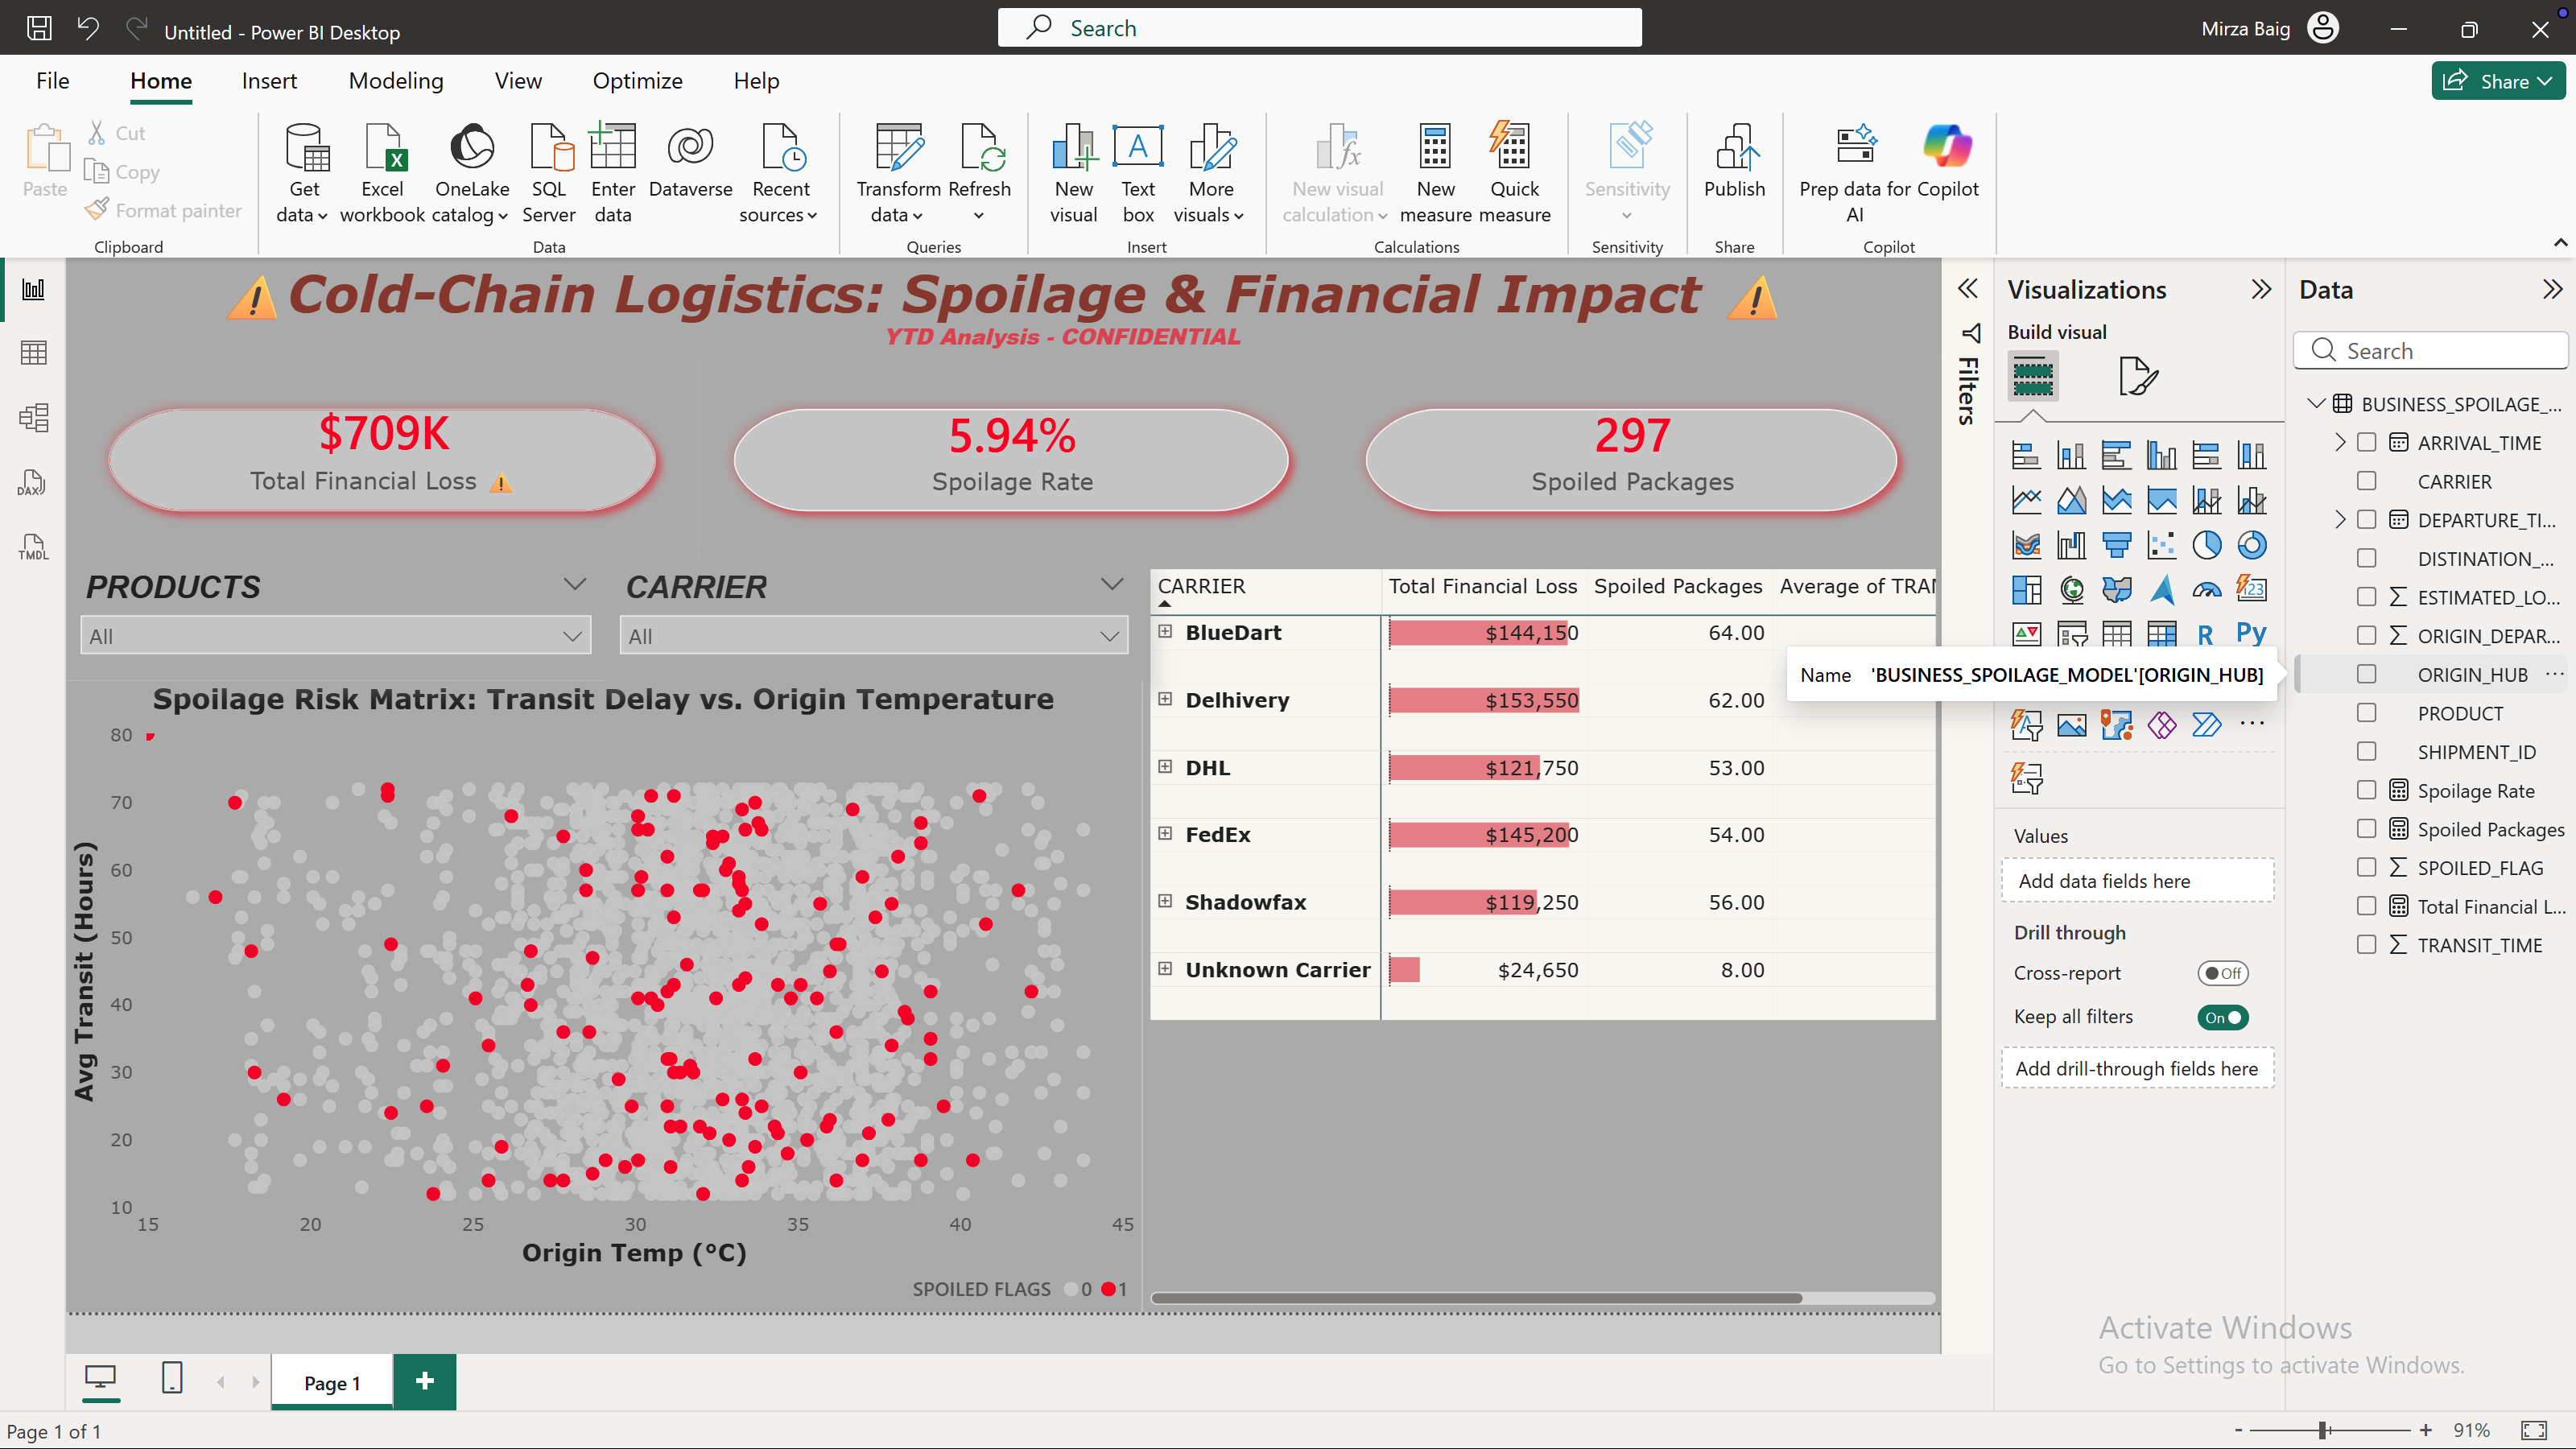

Layout of this report page (visuals, bound fields, positions):
{"tool":"powerbi","page":{"name":"Page 1","canvas":[1280,720],"ordinal":0},"visuals":[{"type":"cardVisual","fields":{"Data":["BUSINESS_SPOILAGE_MODEL.Total Financial Loss"]},"box":[0,69.3,432.2,138.6],"z":0},{"type":"cardVisual","fields":{"Data":["BUSINESS_SPOILAGE_MODEL.Spoilage Rate"]},"box":[432.2,69.3,427.8,138.6],"z":1000},{"type":"cardVisual","fields":{"Data":["BUSINESS_SPOILAGE_MODEL.Spoiled Packages"]},"box":[858.8,69.3,421.2,138.6],"z":2000},{"type":"scatterChart","title":"Spoilage Risk Matrix: Transit Delay vs. Origin Temperature","fields":{"X":["BUSINESS_SPOILAGE_MODEL.ORIGIN_DEPARTURE_TEMP_C"],"Y":["BUSINESS_SPOILAGE_MODEL.TRANSIT_TIME"],"Series":["BUSINESS_SPOILAGE_MODEL.SPOILED_FLAG"]},"box":[0,289.2,657.6,434.4],"z":3000},{"type":"pivotTable","fields":{"Rows":["BUSINESS_SPOILAGE_MODEL.CARRIER","BUSINESS_SPOILAGE_MODEL.ORIGIN_HUB"],"Values":["BUSINESS_SPOILAGE_MODEL.Total Financial Loss","BUSINESS_SPOILAGE_MODEL.Spoiled Packages","Avg(BUSINESS_SPOILAGE_MODEL.TRANSIT_TIME)"]},"box":[657.6,207.8,625.7,512.4],"z":4000},{"type":"slicer","title":"Products","fields":{"Values":["BUSINESS_SPOILAGE_MODEL.PRODUCT"]},"box":[0,207.8,328.8,81.4],"z":5000},{"type":"slicer","title":"Carrier","fields":{"Values":["BUSINESS_SPOILAGE_MODEL.CARRIER"]},"box":[328.8,207.8,329.9,81.4],"z":6000},{"type":"textbox","title":"⚠️Cold-Chain Logistics: Spoilage & Financial Impact ⚠️","box":[0,0,1280,69.3],"z":7000}]}

Visuals, with their boxes on the page's 1280x720 design canvas (x1, y1, x2, y2). These are canvas units, not pixel positions in the 2576x1449 screenshot, which may show the page scaled, cropped or inside an application window:
cardVisual - BUSINESS_SPOILAGE_MODEL.Total Financial Loss: 0,69,432,208
cardVisual - BUSINESS_SPOILAGE_MODEL.Spoilage Rate: 432,69,860,208
cardVisual - BUSINESS_SPOILAGE_MODEL.Spoiled Packages: 859,69,1280,208
"Spoilage Risk Matrix: Transit Delay vs. Origin Temperature" scatterChart: 0,289,658,724
pivotTable - BUSINESS_SPOILAGE_MODEL.CARRIER x BUSINESS_SPOILAGE_MODEL.ORIGIN_HUB: 658,208,1283,720
"Products" slicer: 0,208,329,289
"Carrier" slicer: 329,208,659,289
"⚠️Cold-Chain Logistics: Spoilage & Financial Impact ⚠️" textbox: 0,0,1280,69
